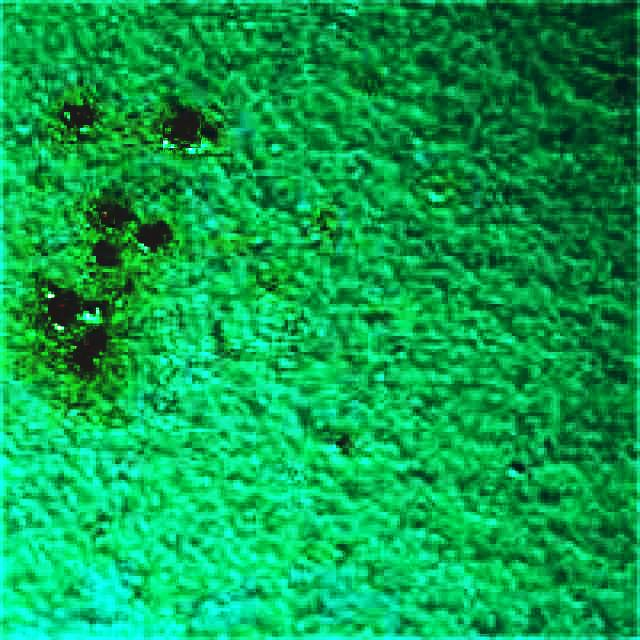Corrosion: (72, 330, 104, 377), (166, 110, 200, 151), (46, 288, 73, 325), (62, 104, 93, 132), (135, 224, 166, 249), (92, 242, 117, 266), (96, 206, 121, 228)
